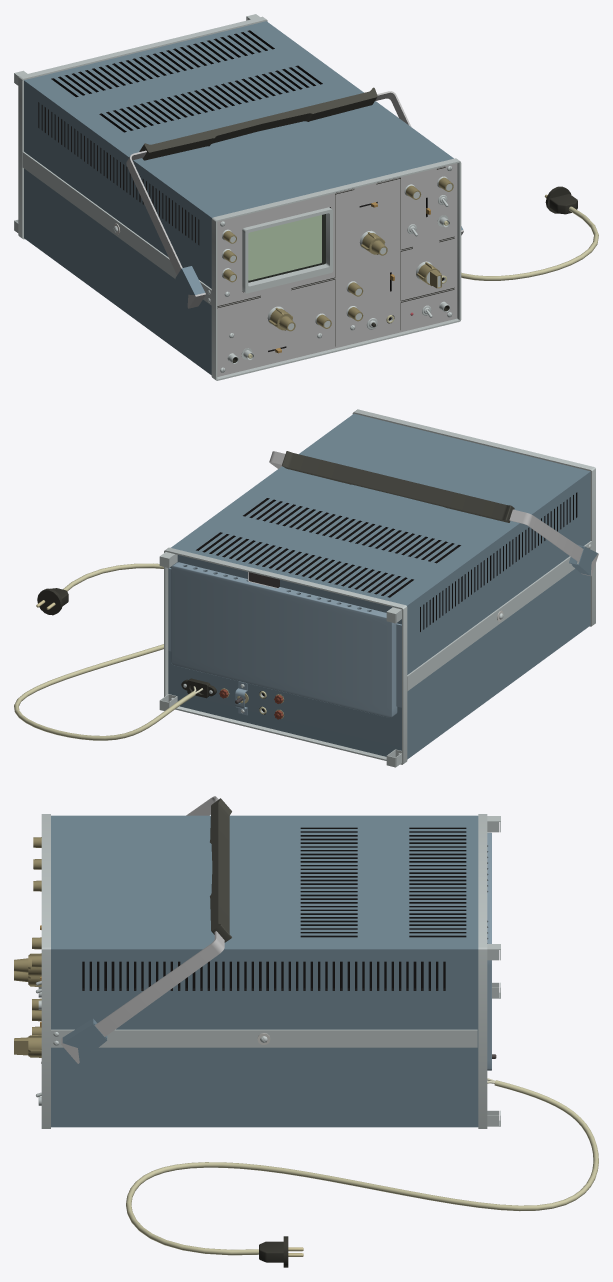
File: oscilloscope.glb
The picture shows the model from 3 angles, top to bottom: view 1: azimuth 30°, elevation 25°; view 2: azimuth 150°, elevation 25°; view 3: azimuth 270°, elevation 25°; orthographic projection. The views are drawn at different scales.
Parts seen in each view (by area): view 1: Cube.019, Cube, Cube.010, Cube.001, Cube.004, Cube.023, Cube.002, Cube.008, NurbsPath, Cube.009, Cylinder.003, Cylinder.037; view 2: Cube.019, Cube.007, Cube.010, Cube, Cube.001, Cube.023, Cube.002, NurbsPath, Cube.008, Cube.006, Cube.009, Cylinder.031; view 3: Cube.010, Cube.019, Cube, Cube.002, Cube.001, NurbsPath, Cube.008, Cube.023, Cube.009, Cube.007, Cube.006.
Part boxes in pixels (x1=…): Cube.019: x1=24, y1=21, x2=453, y2=217; Cube: x1=24, y1=80, x2=457, y2=376; Cube.010: x1=35, y1=89, x2=201, y2=367; Cube.001: x1=18, y1=16, x2=461, y2=380; Cube.004: x1=242, y1=207, x2=333, y2=293; Cube.023: x1=139, y1=87, x2=377, y2=160; Cube.002: x1=22, y1=151, x2=211, y2=305; Cube.008: x1=126, y1=91, x2=411, y2=274; NurbsPath: x1=461, y1=206, x2=598, y2=280; Cube.009: x1=175, y1=226, x2=463, y2=308; Cylinder.003: x1=267, y1=306, x2=295, y2=331; Cylinder.037: x1=359, y1=230, x2=387, y2=255; Cube.019: x1=171, y1=413, x2=590, y2=605; Cube.007: x1=168, y1=562, x2=401, y2=717; Cube.010: x1=417, y1=479, x2=579, y2=751; Cube: x1=168, y1=472, x2=590, y2=759; Cube.001: x1=164, y1=409, x2=595, y2=764; Cube.023: x1=282, y1=451, x2=514, y2=522; Cube.002: x1=407, y1=541, x2=592, y2=691; NurbsPath: x1=14, y1=563, x2=195, y2=740; Cube.008: x1=269, y1=451, x2=583, y2=562; Cube.006: x1=159, y1=552, x2=401, y2=767; Cube.009: x1=569, y1=544, x2=598, y2=576; Cylinder.031: x1=37, y1=588, x2=62, y2=615; Cube.010: x1=76, y1=949, x2=451, y2=1127; Cube.019: x1=51, y1=815, x2=478, y2=949; Cube: x1=51, y1=949, x2=478, y2=1127; Cube.002: x1=51, y1=1029, x2=477, y2=1047; Cube.001: x1=41, y1=814, x2=487, y2=1128; NurbsPath: x1=126, y1=1080, x2=598, y2=1255; Cube.008: x1=95, y1=796, x2=224, y2=1036; Cube.023: x1=210, y1=798, x2=231, y2=942; Cube.009: x1=61, y1=1018, x2=107, y2=1063; Cube.007: x1=487, y1=832, x2=491, y2=1070; Cube.006: x1=487, y1=816, x2=500, y2=1126.
Bounding box in the file's own units: 0.6928 × 0.2769 × 0.6552.
